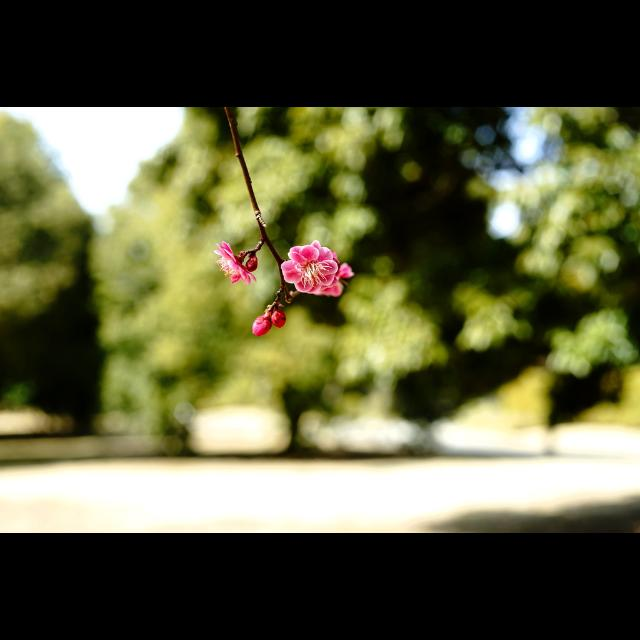Flower: (280, 240, 338, 298), (215, 240, 258, 284), (310, 262, 356, 296)
